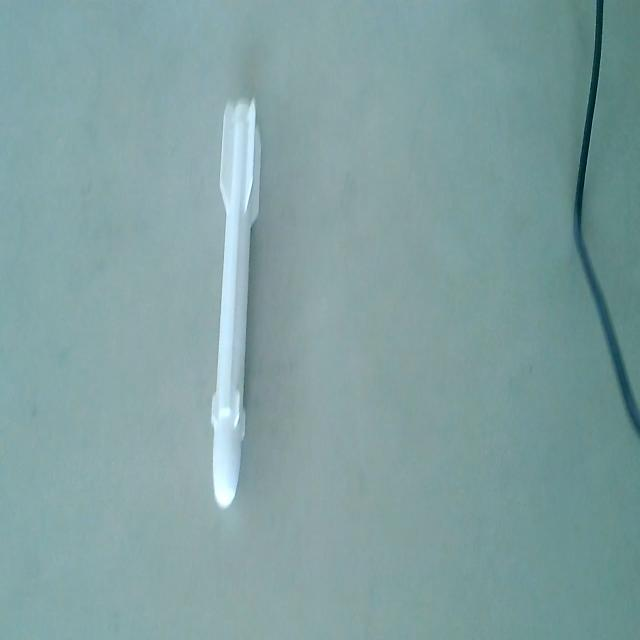Rocket: (204, 92, 265, 518)
